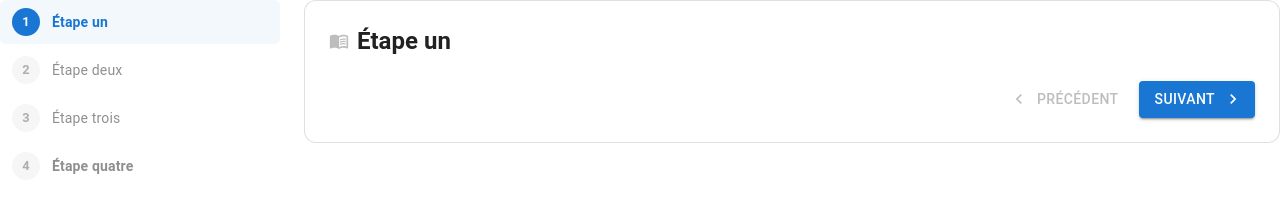
it: ModuleStepper › le sommaire permet de revenir directement à une étape déjà atteinte via son titre
The width and height of the screenshot is (1280, 212).
Click the button "Suivant" at (1197,99), box [1138,81,1255,118]
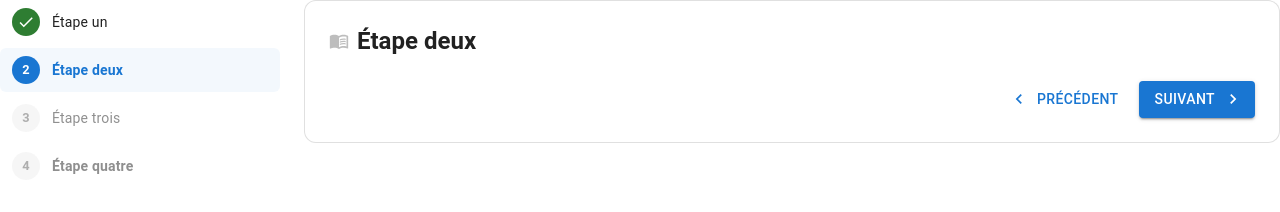
Click the button "Suivant" at (1197,99), box [1138,81,1255,118]
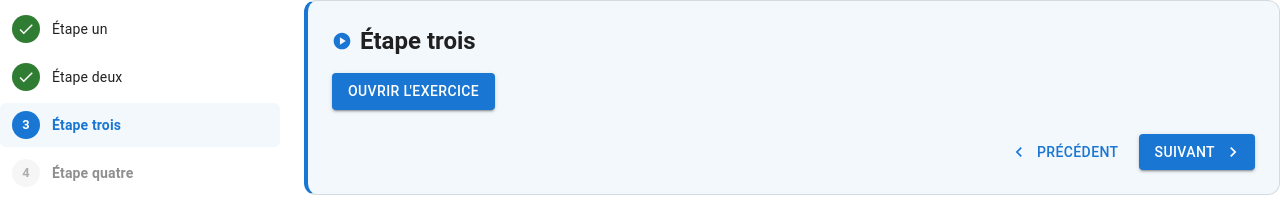
Click the link "Étape un" at (60,29), box [12,15,108,43]
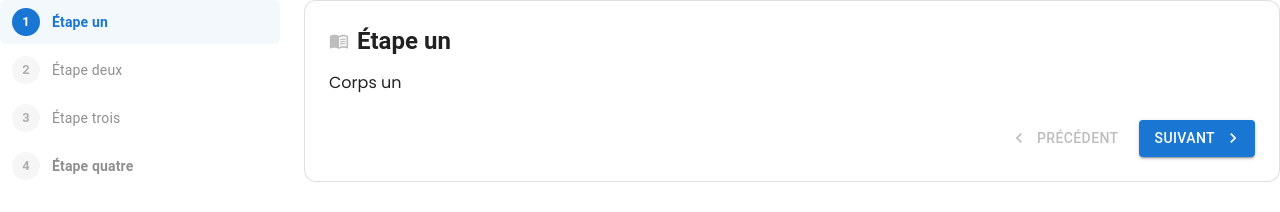
Check: the text "Corps un" is shown, box [329,71,402,94]
